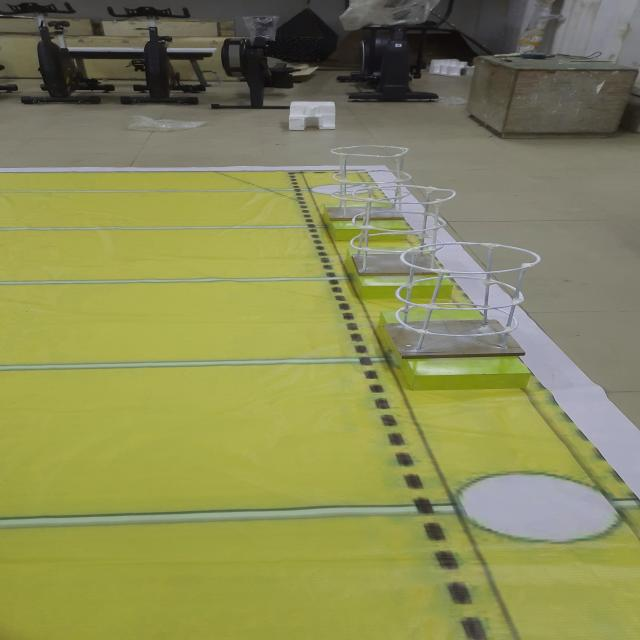silo: (379, 236, 554, 369), (342, 181, 472, 280), (311, 140, 420, 225)
